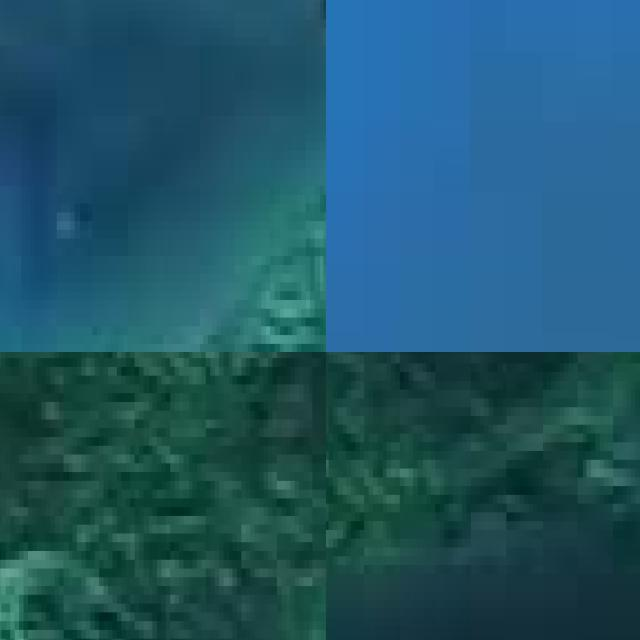fish: (0, 0, 326, 352), (326, 352, 457, 640)
